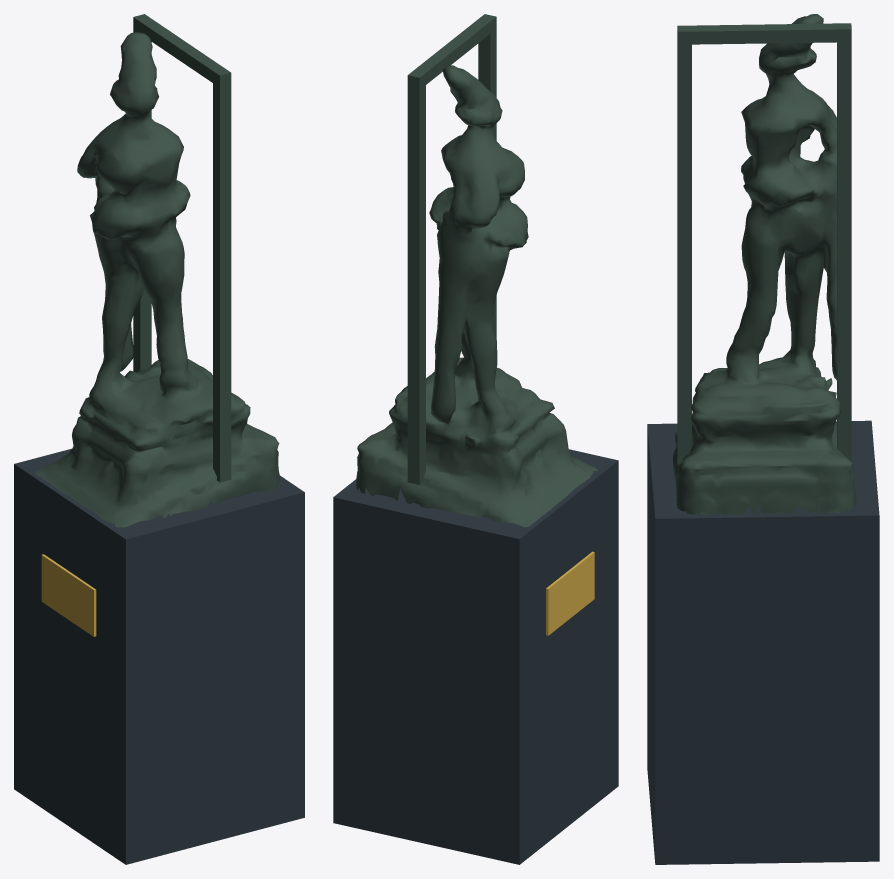
Rendered from belle.glb.
3 renders of one model, left to right at view 1: azimuth 30°, elevation 25°; view 2: azimuth 150°, elevation 25°; view 3: azimuth 270°, elevation 25°, orthographic. The views are drawn at different scales.
Parts seen in each view (by area): view 1: belle; view 2: belle; view 3: belle.
Boxes of the visible parts, left/top/right/bottom form: belle: left=14, top=14, right=304, bottom=864; belle: left=333, top=14, right=618, bottom=864; belle: left=647, top=14, right=879, bottom=864.
Bounding box in the file's own units: 0.4879 × 1.85 × 0.4861.
